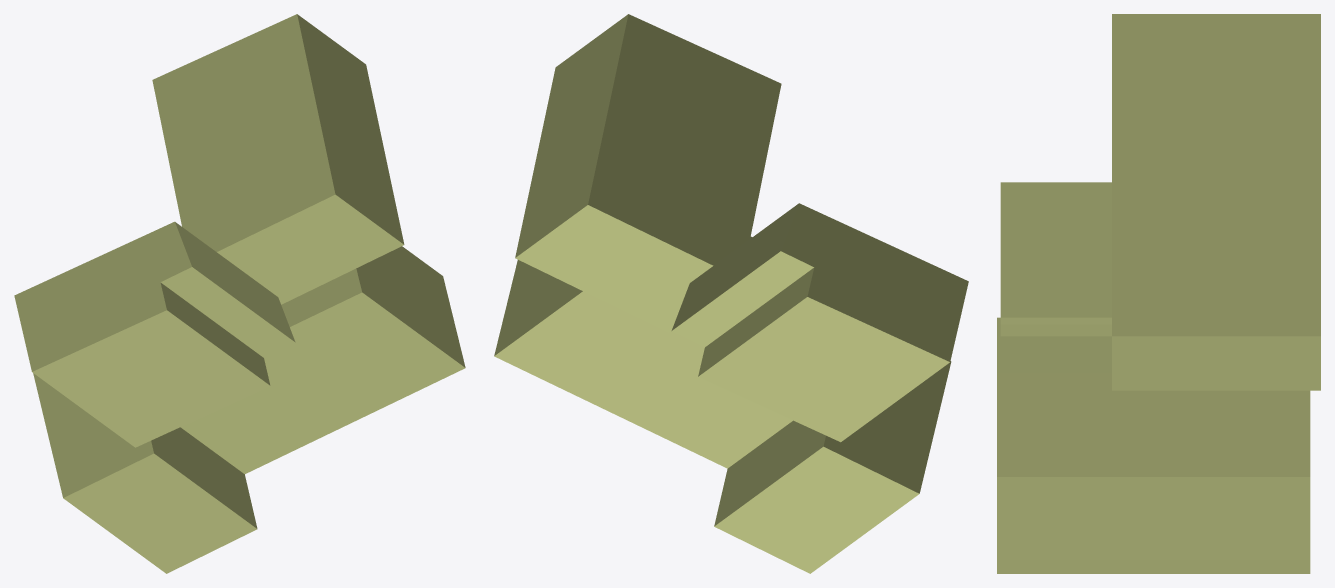
3 views of the same model, side by side, from view 1: azimuth 30°, elevation 25°; view 2: azimuth 150°, elevation 25°; view 3: azimuth 270°, elevation 25° (orthographic). The views are drawn at different scales.
Visible parts, largest first — view 1: 0_1_0_2_1_3_2_0_0_3; view 2: 0_1_0_2_1_3_2_0_0_3; view 3: 0_1_0_2_1_3_2_0_0_3.
Part boxes in pixels (x1,y1,x2,y2): 0_1_0_2_1_3_2_0_0_3: (14, 14, 465, 573); 0_1_0_2_1_3_2_0_0_3: (494, 14, 968, 573); 0_1_0_2_1_3_2_0_0_3: (997, 14, 1320, 573).
Bounding box in the file's own units: 17.41 × 20.33 × 9.3.
